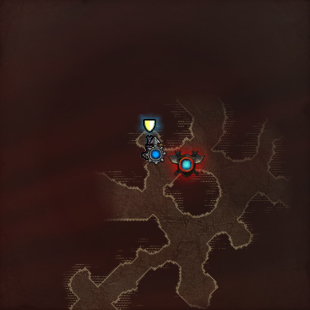ShieldPylon: (140, 116, 158, 158)
